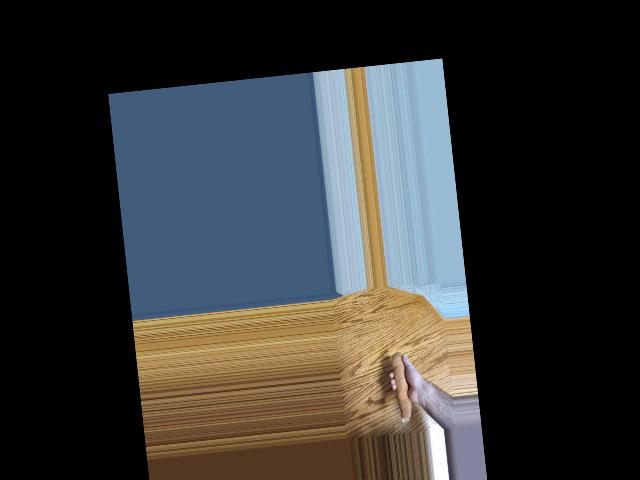sweet_potato: (386, 345, 418, 424)
